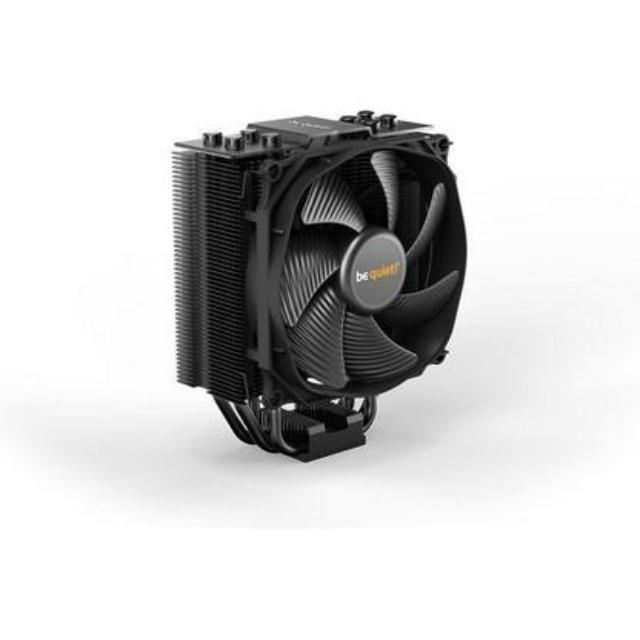CPU_Fan: (168, 109, 464, 466)
